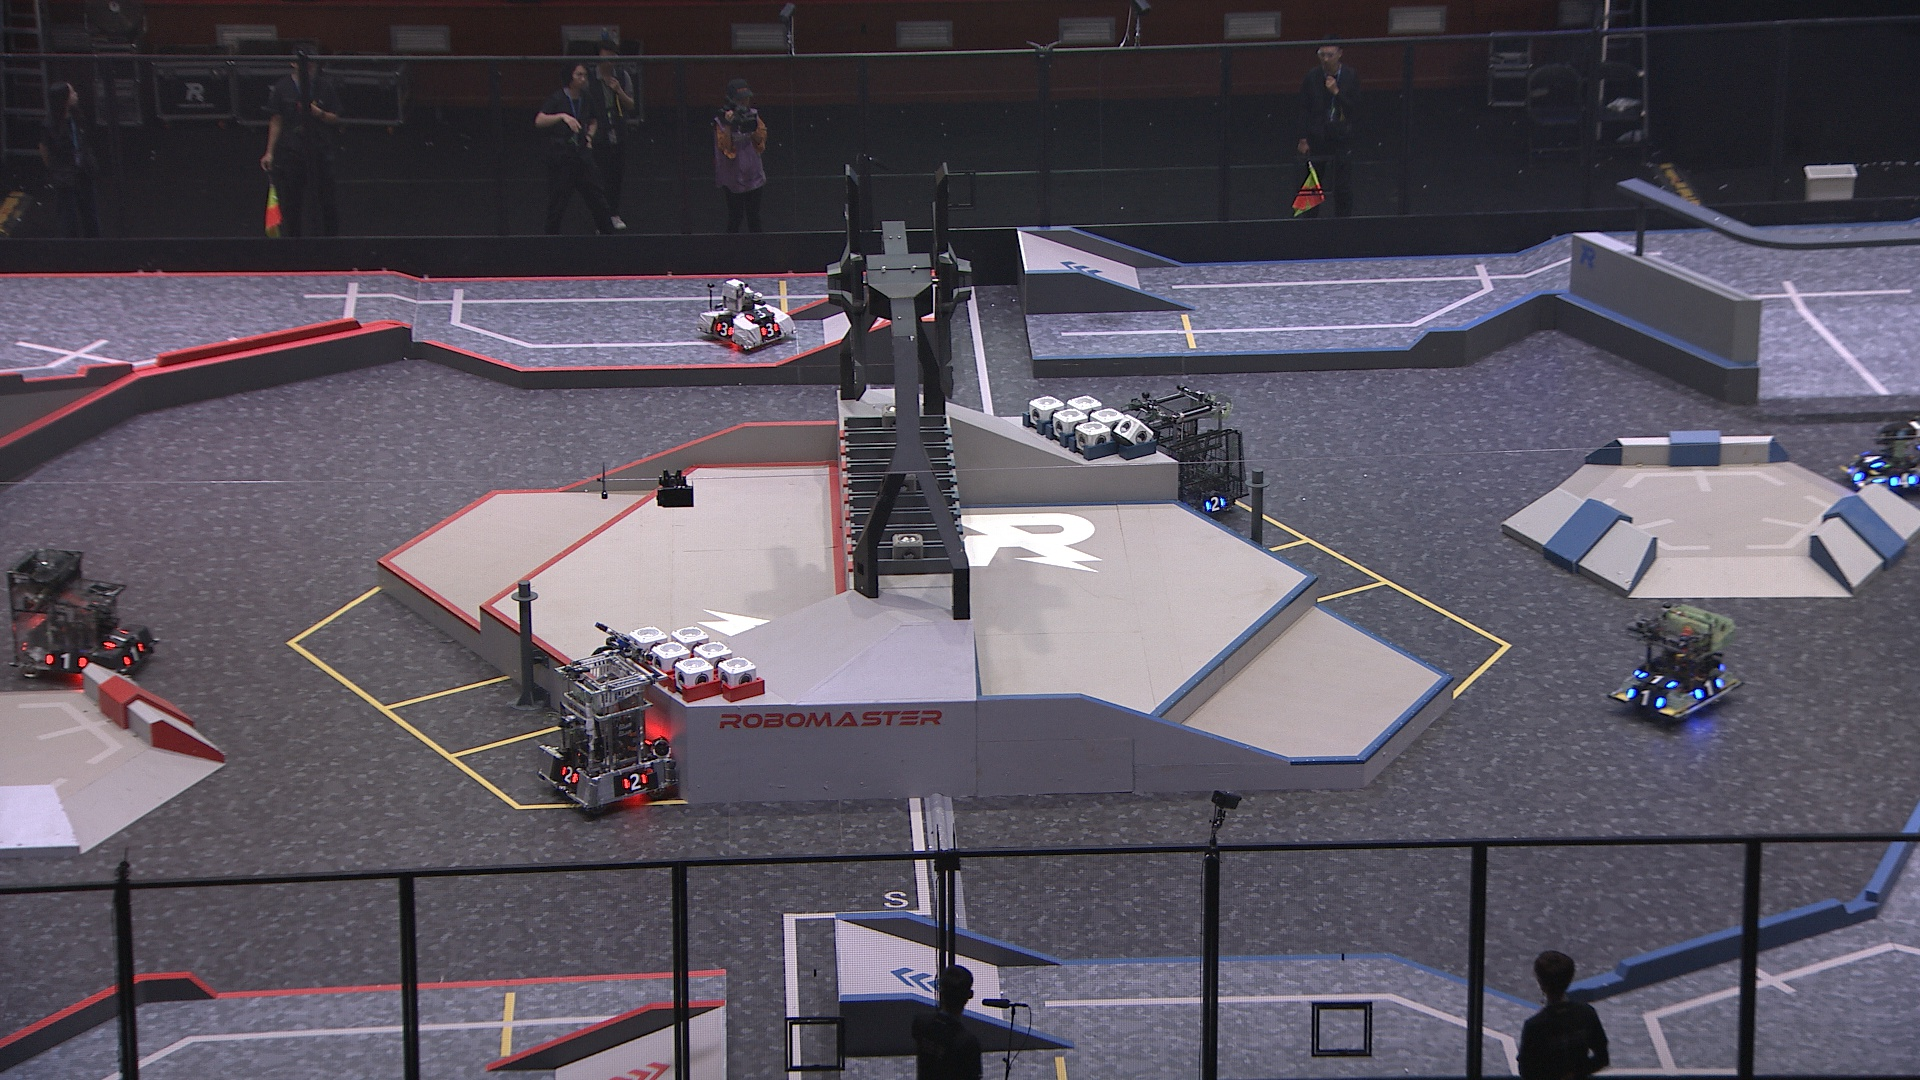armor: (46, 651, 90, 671), (1627, 687, 1664, 709), (618, 771, 651, 793), (121, 641, 146, 669), (1695, 678, 1724, 702), (1640, 670, 1677, 688), (1890, 469, 1917, 489), (558, 764, 580, 787), (105, 626, 131, 647), (1204, 493, 1225, 516), (1861, 451, 1884, 469), (713, 318, 735, 338), (742, 309, 769, 323), (1849, 462, 1865, 484), (760, 322, 781, 338)
car: (534, 646, 678, 820), (3, 547, 154, 687), (1124, 384, 1249, 524), (1607, 600, 1743, 727), (699, 278, 795, 352), (1840, 418, 1920, 496)
